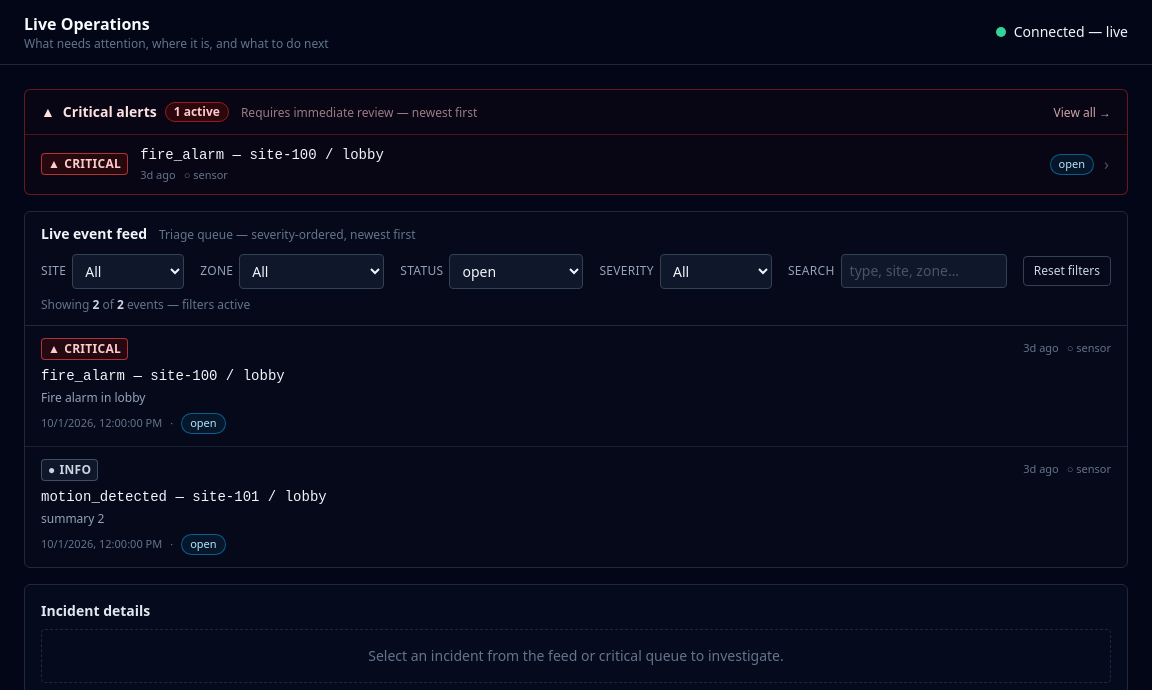
Test: Dashboard › filters by site and shows empty state
The width and height of the screenshot is (1152, 690).
Expected: the list named "Incident feed" is shown, 25,326 -> 1127,566
Select "site-106" in the dropdown labelled "Site" at (128, 271), box 72,254 -> 184,288
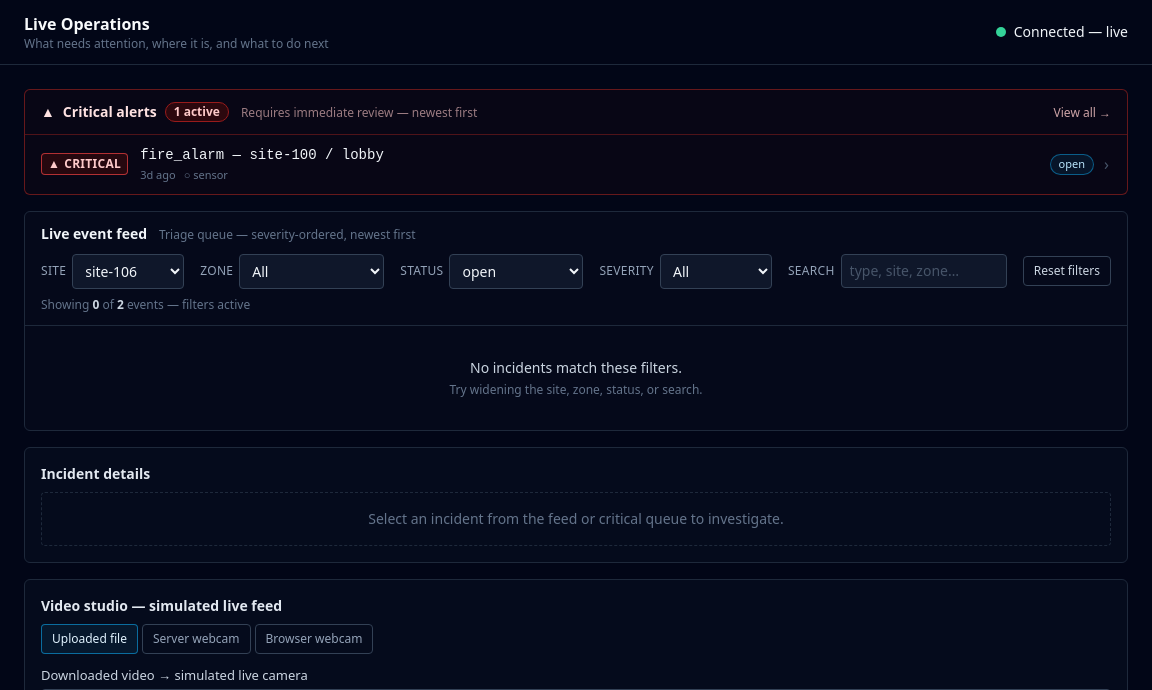
Expected: the text "No incidents match these filters." is shown, 470,358 -> 682,376
